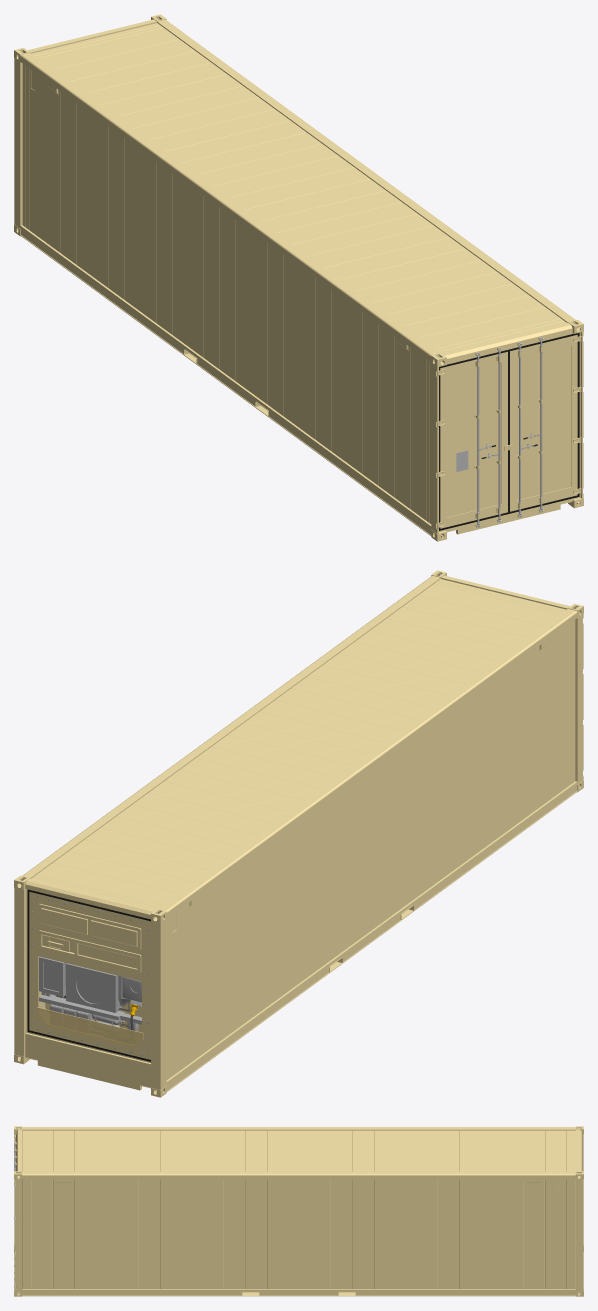
3 renders of one model, top to bottom at view 1: azimuth 30°, elevation 25°; view 2: azimuth 150°, elevation 25°; view 3: azimuth 270°, elevation 25°, orthographic. The views are drawn at different scales.
Visible parts, largest first — view 1: group_5 (×2), group_37 (×4), group_4 (×2), group_34, group_92, group_91, group_3; view 2: group_5 (×2), group_4 (×2), group_9, group_34, group_3 (×2), group_10 (×5), group_53, group_92, group_12 (×2), group_21, group_1, group_8 (+1 smaller); view 3: group_5 (×2), group_4 (×2), group_34, group_92, group_3, group_1.
Part boxes in pixels (<box>): group_5 (×2): <box>22,23,566,523</box>; group_37 (×4): <box>440,334,577,528</box>; group_4 (×2): <box>20,19,575,362</box>; group_34: <box>20,225,431,535</box>; group_92: <box>431,322,583,534</box>; group_91: <box>438,332,579,530</box>; group_3: <box>14,58,22,228</box>; group_5 (×2): <box>31,579,575,1079</box>; group_4 (×2): <box>22,575,577,918</box>; group_9: <box>29,891,150,1059</box>; group_34: <box>166,781,577,1091</box>; group_3 (×2): <box>14,887,166,1089</box>; group_10 (×5): <box>38,904,141,973</box>; group_53: <box>25,1033,150,1090</box>; group_92: <box>441,575,583,784</box>; group_12 (×2): <box>66,963,121,1012</box>; group_21: <box>36,1007,143,1047</box>; group_1: <box>25,878,155,919</box>; group_8: <box>27,889,150,1061</box>; group_5 (×2): <box>22,1130,575,1288</box>; group_4 (×2): <box>22,1127,575,1179</box>; group_34: <box>22,1289,575,1296</box>; group_92: <box>14,1129,22,1291</box>; group_3: <box>575,1179,583,1291</box>; group_1: <box>575,1129,581,1171</box>.
Size of the model in its own units: 96.06 by 480 by 114.
